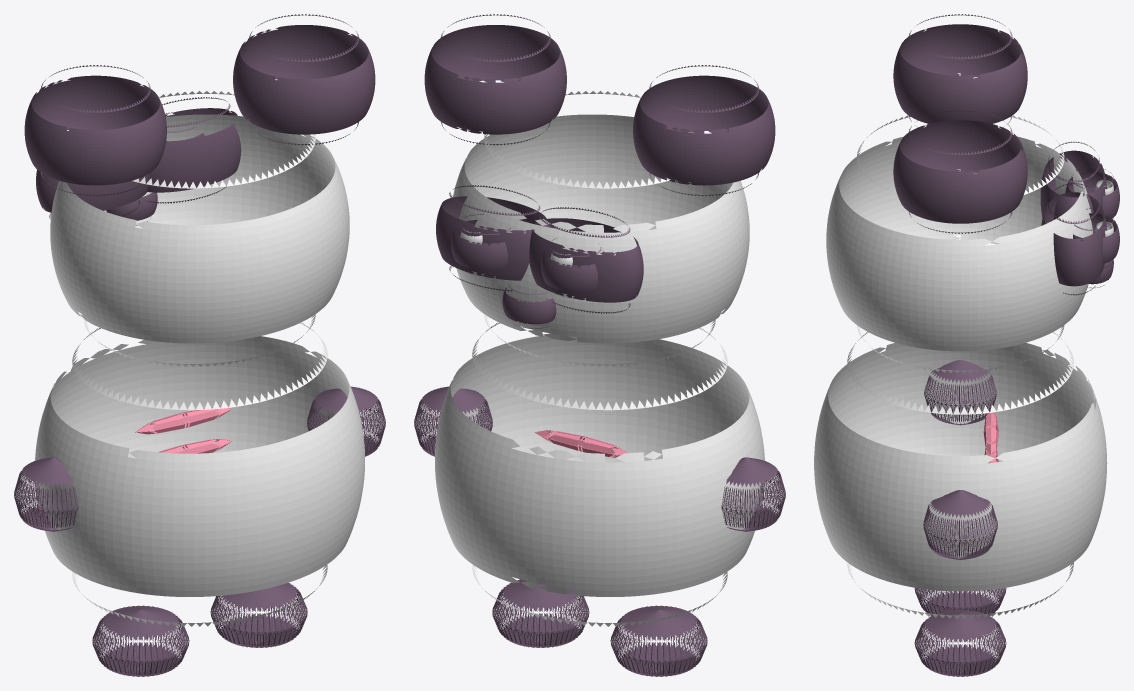
The model's file is koko.glb.
The picture shows the model from 3 angles, left to right: view 1: azimuth 30°, elevation 25°; view 2: azimuth 150°, elevation 25°; view 3: azimuth 270°, elevation 25°; orthographic projection. The views are drawn at different scales.
Visible parts, largest first — view 1: koko_body, koko_head, koko_ear_l, koko_ear_r, koko_leg_l, koko_patch_r, koko_leg_r, koko_arm_l, koko_arm_r, koko_patch_l, koko_stripe3, koko_nose (+1 smaller); view 2: koko_body, koko_head, koko_ear_l, koko_ear_r, koko_leg_l, koko_patch_l, koko_leg_r, koko_patch_r, koko_arm_l, koko_arm_r, koko_eye_r, koko_eye_l (+2 smaller); view 3: koko_body, koko_head, koko_ear_r, koko_ear_l, koko_leg_r, koko_arm_r, koko_patch_r, koko_arm_l, koko_patch_l, koko_leg_l, koko_eye_l, koko_eye_r (+1 smaller).
Part boxes in pixels (bbox=[...]): koko_body: bbox=[35, 322, 364, 626]; koko_head: bbox=[50, 91, 349, 366]; koko_ear_l: bbox=[24, 65, 166, 195]; koko_ear_r: bbox=[233, 14, 375, 145]; koko_leg_l: bbox=[92, 605, 189, 676]; koko_patch_r: bbox=[143, 97, 241, 203]; koko_leg_r: bbox=[210, 582, 307, 647]; koko_arm_l: bbox=[14, 457, 78, 531]; koko_arm_r: bbox=[307, 386, 385, 456]; koko_patch_l: bbox=[36, 169, 150, 218]; koko_stripe3: bbox=[135, 406, 232, 434]; koko_nose: bbox=[106, 192, 157, 225]; koko_body: bbox=[435, 322, 764, 626]; koko_head: bbox=[453, 91, 749, 366]; koko_ear_l: bbox=[633, 65, 775, 195]; koko_ear_r: bbox=[424, 14, 566, 145]; koko_leg_l: bbox=[610, 605, 707, 676]; koko_patch_l: bbox=[529, 207, 643, 313]; koko_leg_r: bbox=[492, 579, 589, 647]; koko_patch_r: bbox=[436, 185, 550, 291]; koko_arm_l: bbox=[721, 457, 785, 531]; koko_arm_r: bbox=[414, 386, 492, 456]; koko_eye_r: bbox=[451, 214, 510, 276]; koko_eye_l: bbox=[541, 238, 604, 298]; koko_body: bbox=[814, 332, 1107, 618]; koko_head: bbox=[826, 115, 1092, 372]; koko_ear_r: bbox=[893, 110, 1027, 233]; koko_ear_l: bbox=[893, 14, 1027, 127]; koko_leg_r: bbox=[914, 609, 1006, 676]; koko_arm_r: bbox=[923, 490, 997, 559]; koko_patch_r: bbox=[1041, 183, 1107, 295]; koko_arm_l: bbox=[924, 360, 997, 425]; koko_patch_l: bbox=[1040, 141, 1107, 219]; koko_leg_l: bbox=[914, 588, 1006, 615]; koko_eye_l: bbox=[1065, 167, 1119, 218]; koko_eye_r: bbox=[1073, 208, 1119, 268].
Bounding box in the file's own units: 1.28 × 2.02 × 0.9975.
